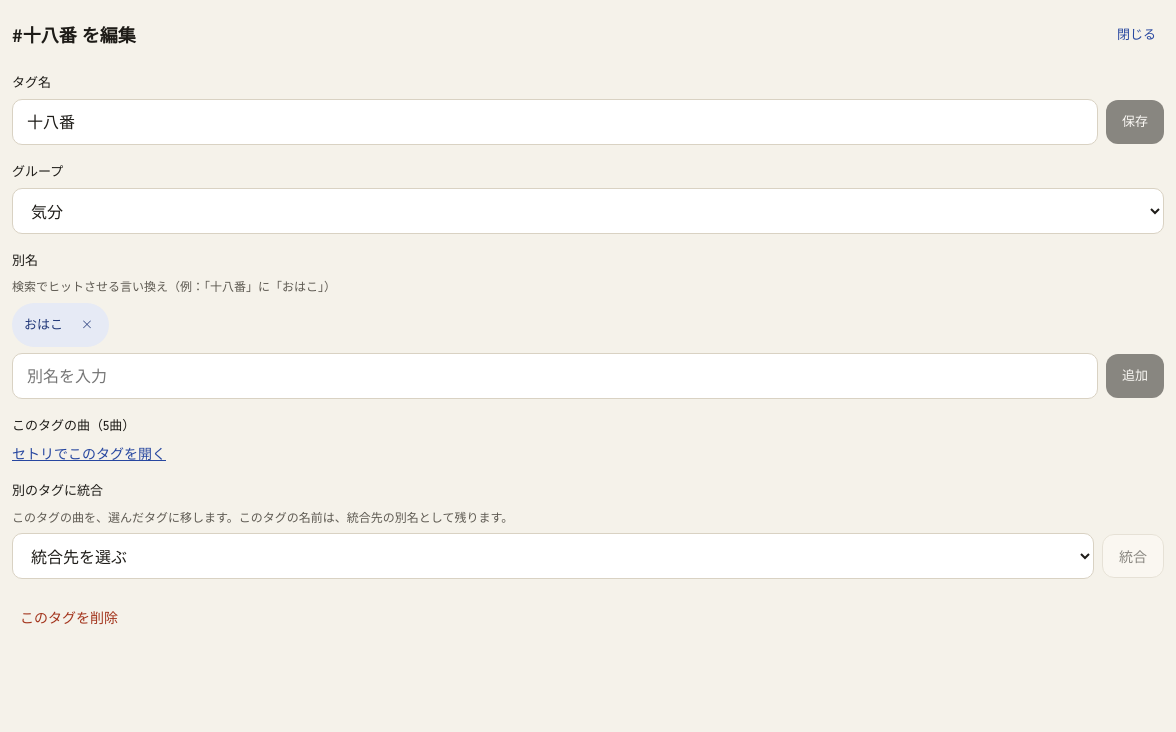
Test: TagEditor › 名前を変える（同じ名前・空では押せない）
Expected: the button "保存" is disabled, [1106,100,1164,144]
Clear the field labelled "タグ名" at (555, 122), box [12,99,1098,145]
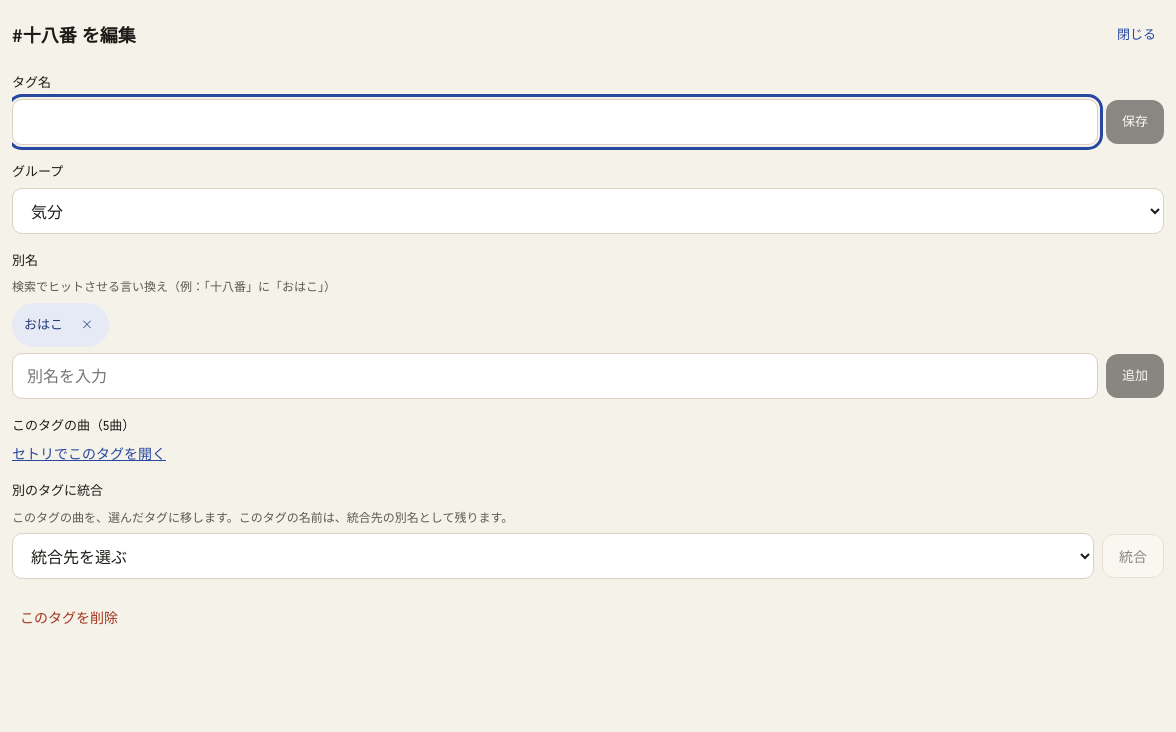
Expected: the button "保存" is disabled, [1106,100,1164,144]
Type "おはこ曲" into the field labelled "タグ名" at (555, 122), box [12,99,1098,145]
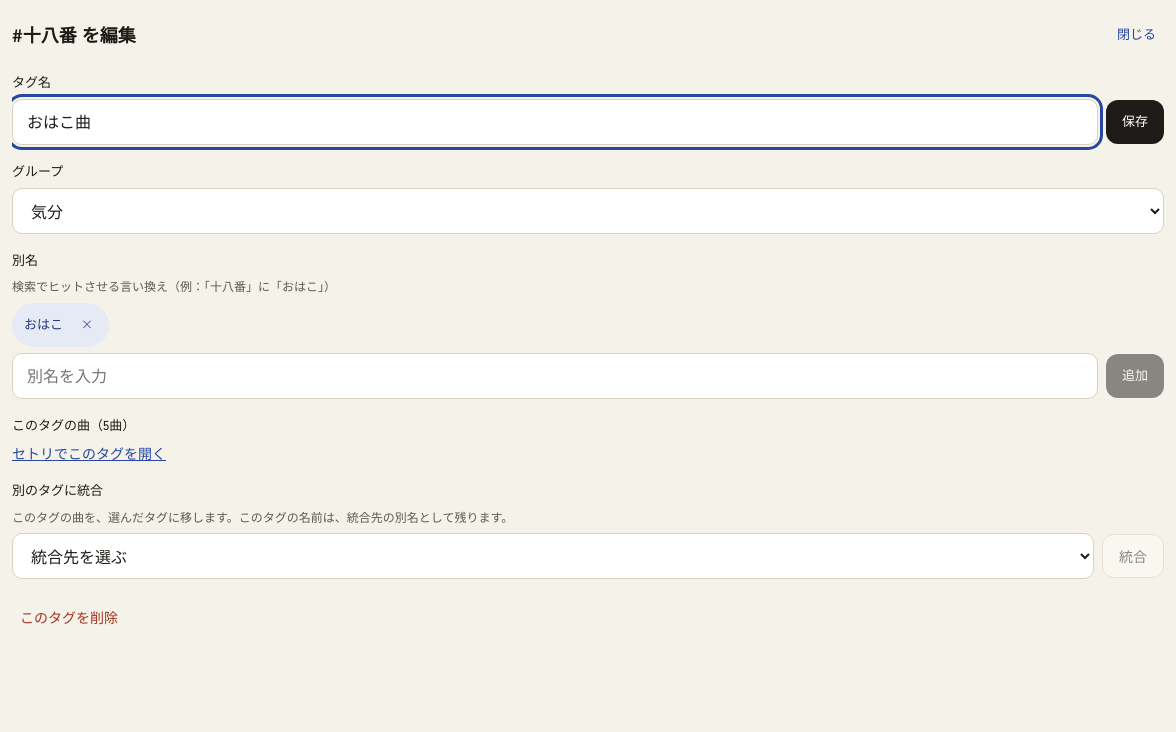
Click the button "保存" at (1135, 122), box [1106,100,1164,144]
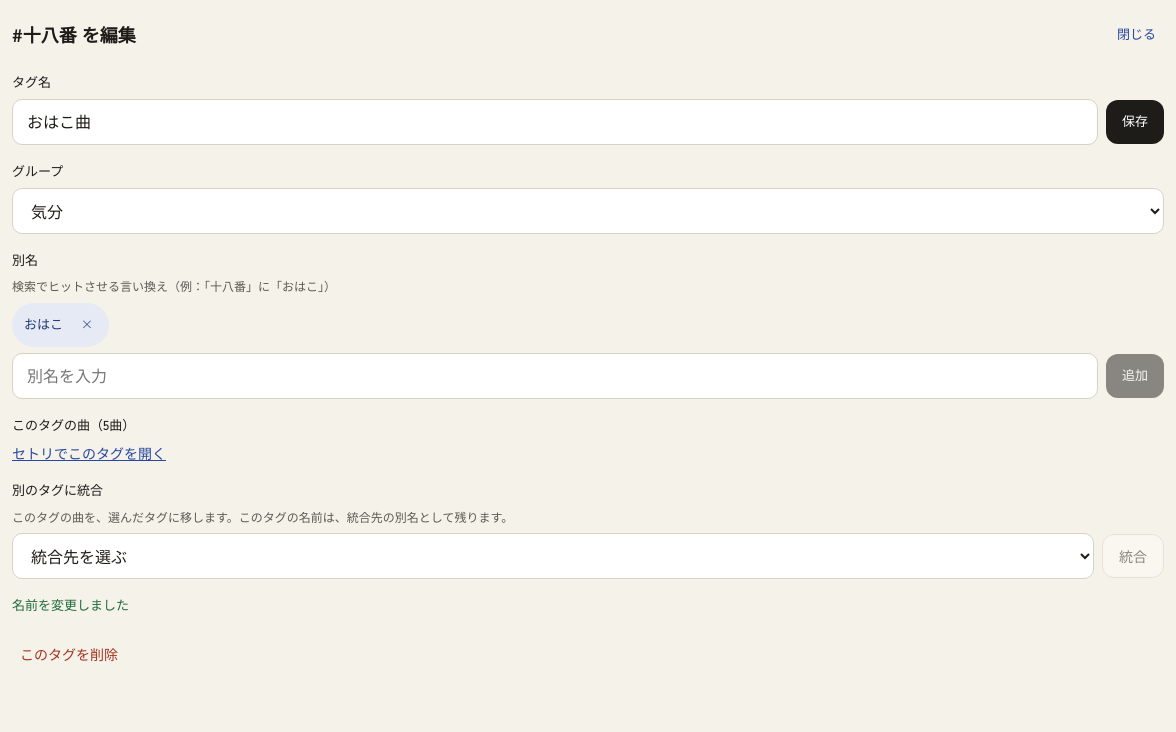
Expected: the message reads "名前を変更しました", [12,595,129,614]
